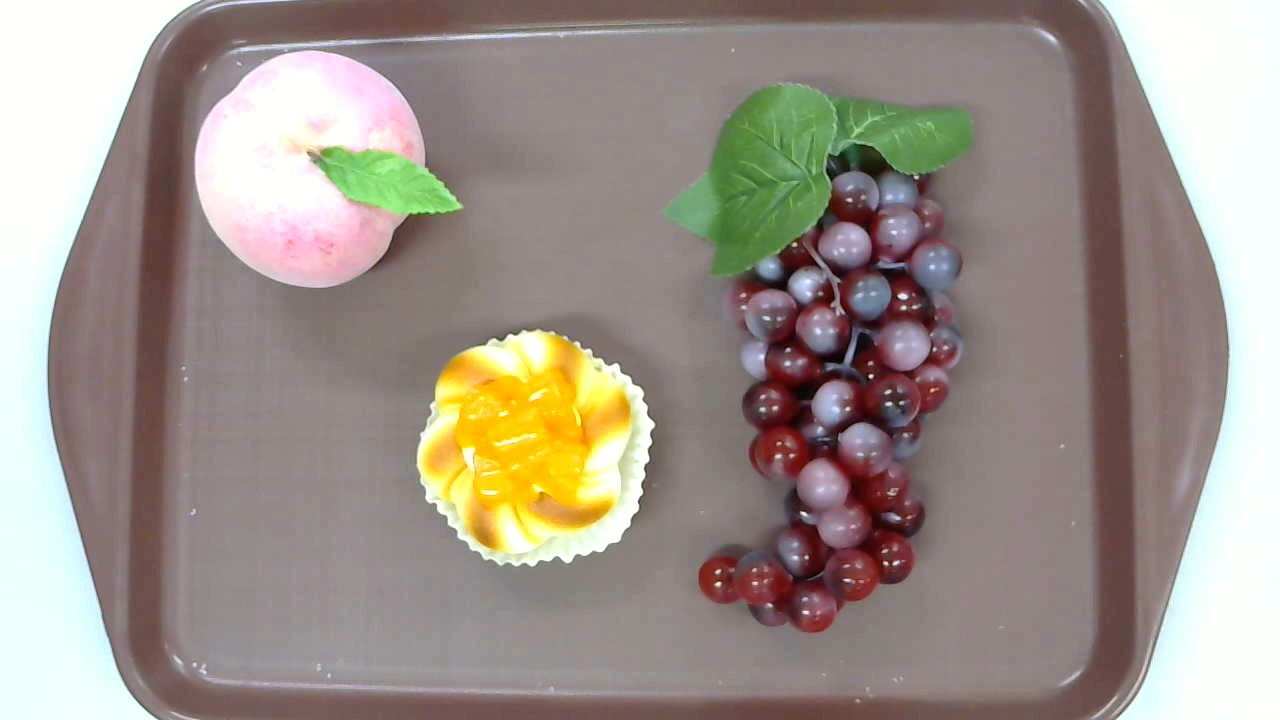grape: (660, 82, 978, 636)
mango tart: (416, 328, 659, 567)
peach: (193, 50, 463, 290)
